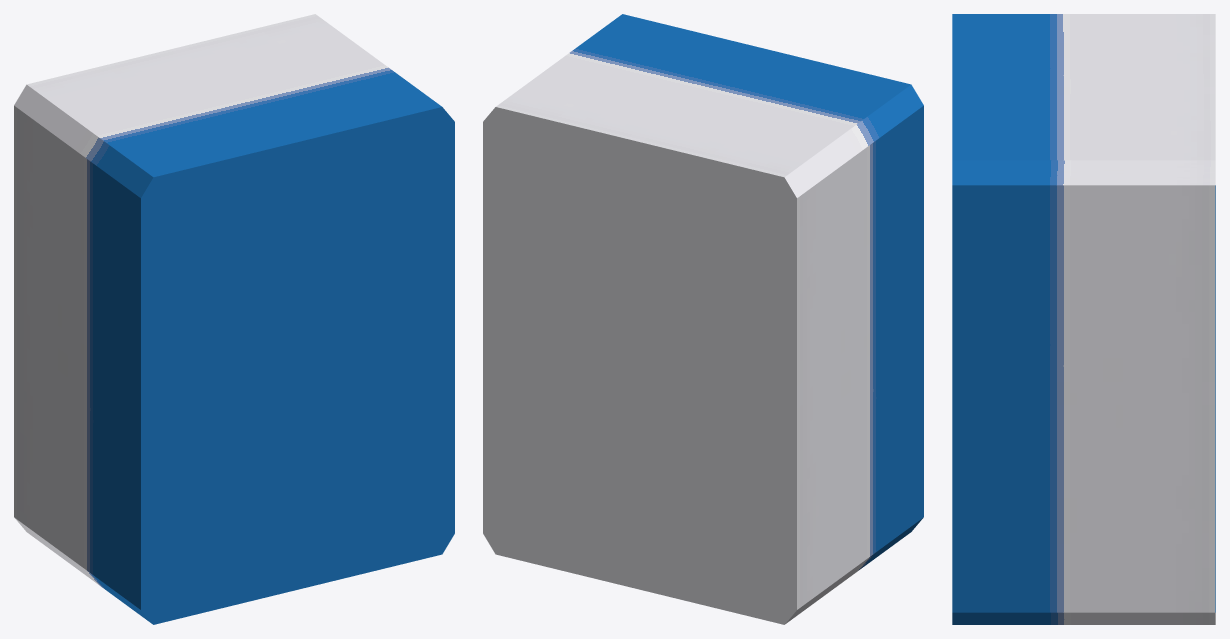
The model's file is mahjong.glb.
3 views of the same model, side by side, from view 1: azimuth 30°, elevation 25°; view 2: azimuth 150°, elevation 25°; view 3: azimuth 270°, elevation 25° (orthographic). The views are drawn at different scales.
Parts seen in each view (by area): view 1: Cube; view 2: Cube; view 3: Cube.
Boxes of the visible parts, left/top/right/bottom form: Cube: left=14, top=14, right=454, bottom=624; Cube: left=483, top=14, right=923, bottom=624; Cube: left=952, top=14, right=1215, bottom=624.
Bounding box in the file's own units: 1 × 1.36 × 0.7.
1 material, 1 textured.
